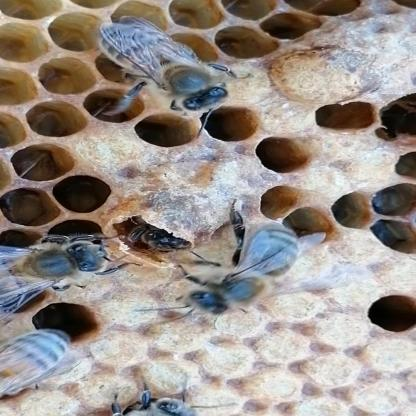bee: (146, 210, 361, 331), (88, 19, 270, 122), (0, 209, 126, 314), (0, 322, 133, 404), (70, 375, 231, 416)
